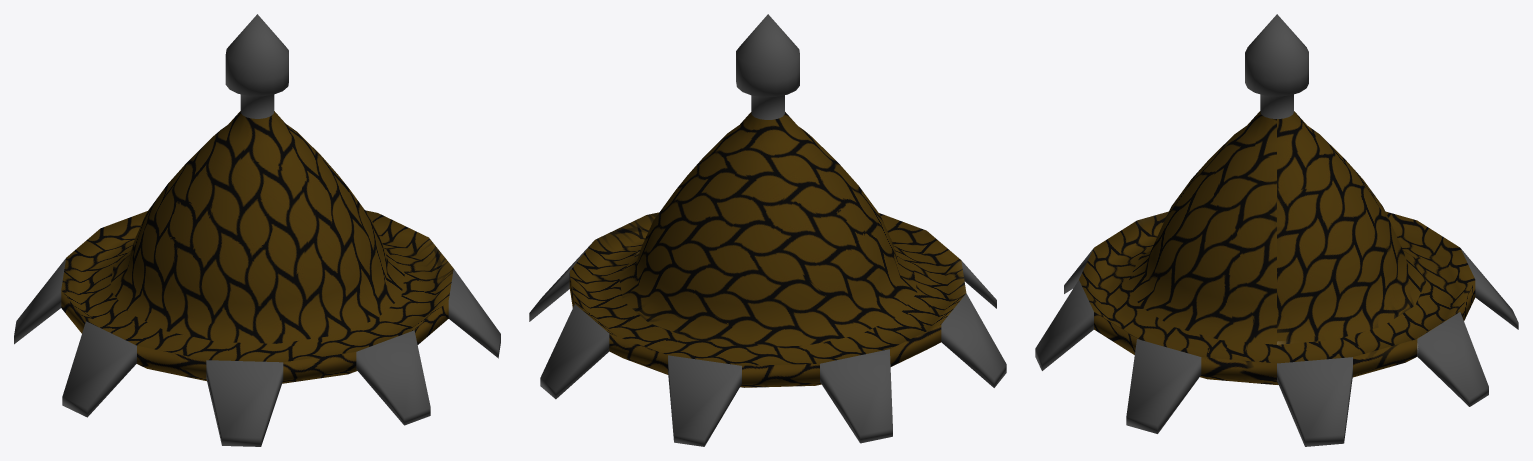
Rendered from gorro4.fbx.
3 views of the same model, side by side, from view 1: azimuth 30°, elevation 25°; view 2: azimuth 150°, elevation 25°; view 3: azimuth 270°, elevation 25° (orthographic).
Visible parts, largest first — view 1: gorro04; view 2: gorro04; view 3: gorro04.
Boxes of the visible parts, x1,y1,x2,y2 form: gorro04: [14, 14, 500, 446]; gorro04: [529, 14, 1006, 446]; gorro04: [1035, 14, 1518, 446].
Size of the model in its own units: 98.46 by 74.12 by 98.25.
